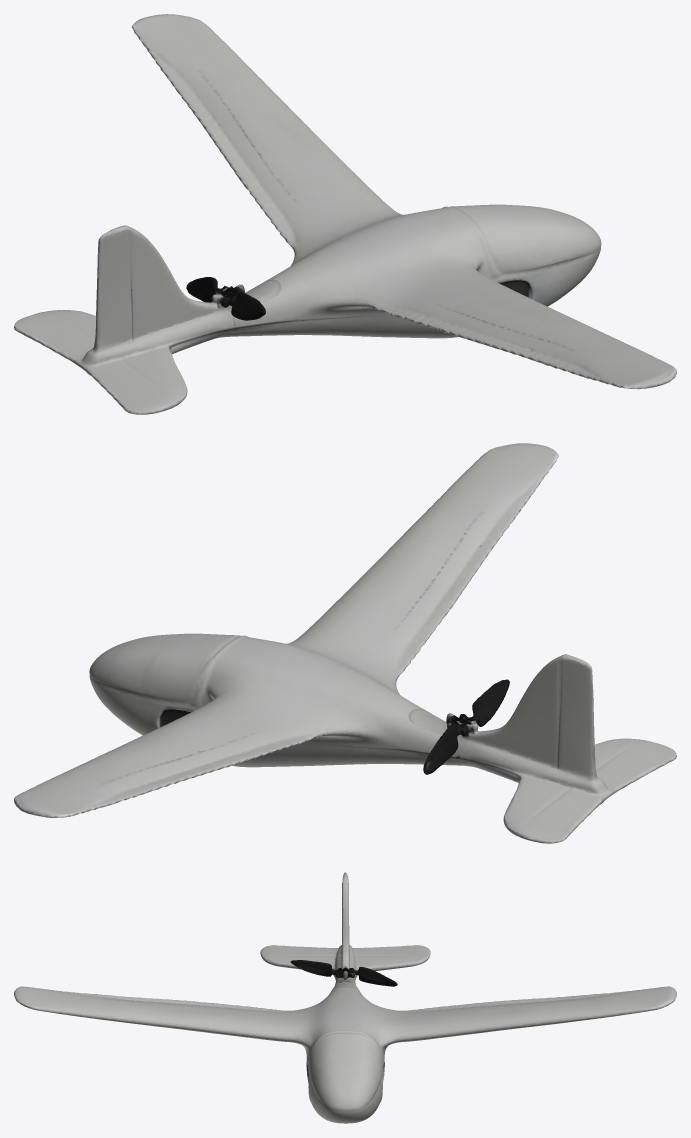
Rendered from map-wing.glb.
3 renders of one model, top to bottom at view 1: azimuth 30°, elevation 25°; view 2: azimuth 150°, elevation 25°; view 3: azimuth 270°, elevation 25°, orthographic. The views are drawn at different scales.
Visible parts, largest first — view 1: part_1; view 2: part_1; view 3: part_1.
Part boxes in pixels (x1,y1,x2,y2): part_1: (14,14,676,414); part_1: (14,443,676,843); part_1: (14,872,676,1123).
Bounding box in the file's own units: 0.6016 × 0.1961 × 1.
Materials: 1 (1 with a texture image).
